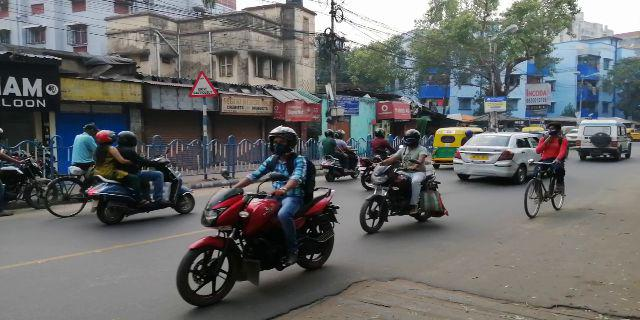Car: (454, 137, 517, 178), (578, 117, 626, 163)
Cycle: (524, 129, 568, 219)
Motorbike: (174, 128, 342, 309), (80, 130, 196, 223), (359, 131, 443, 237)
